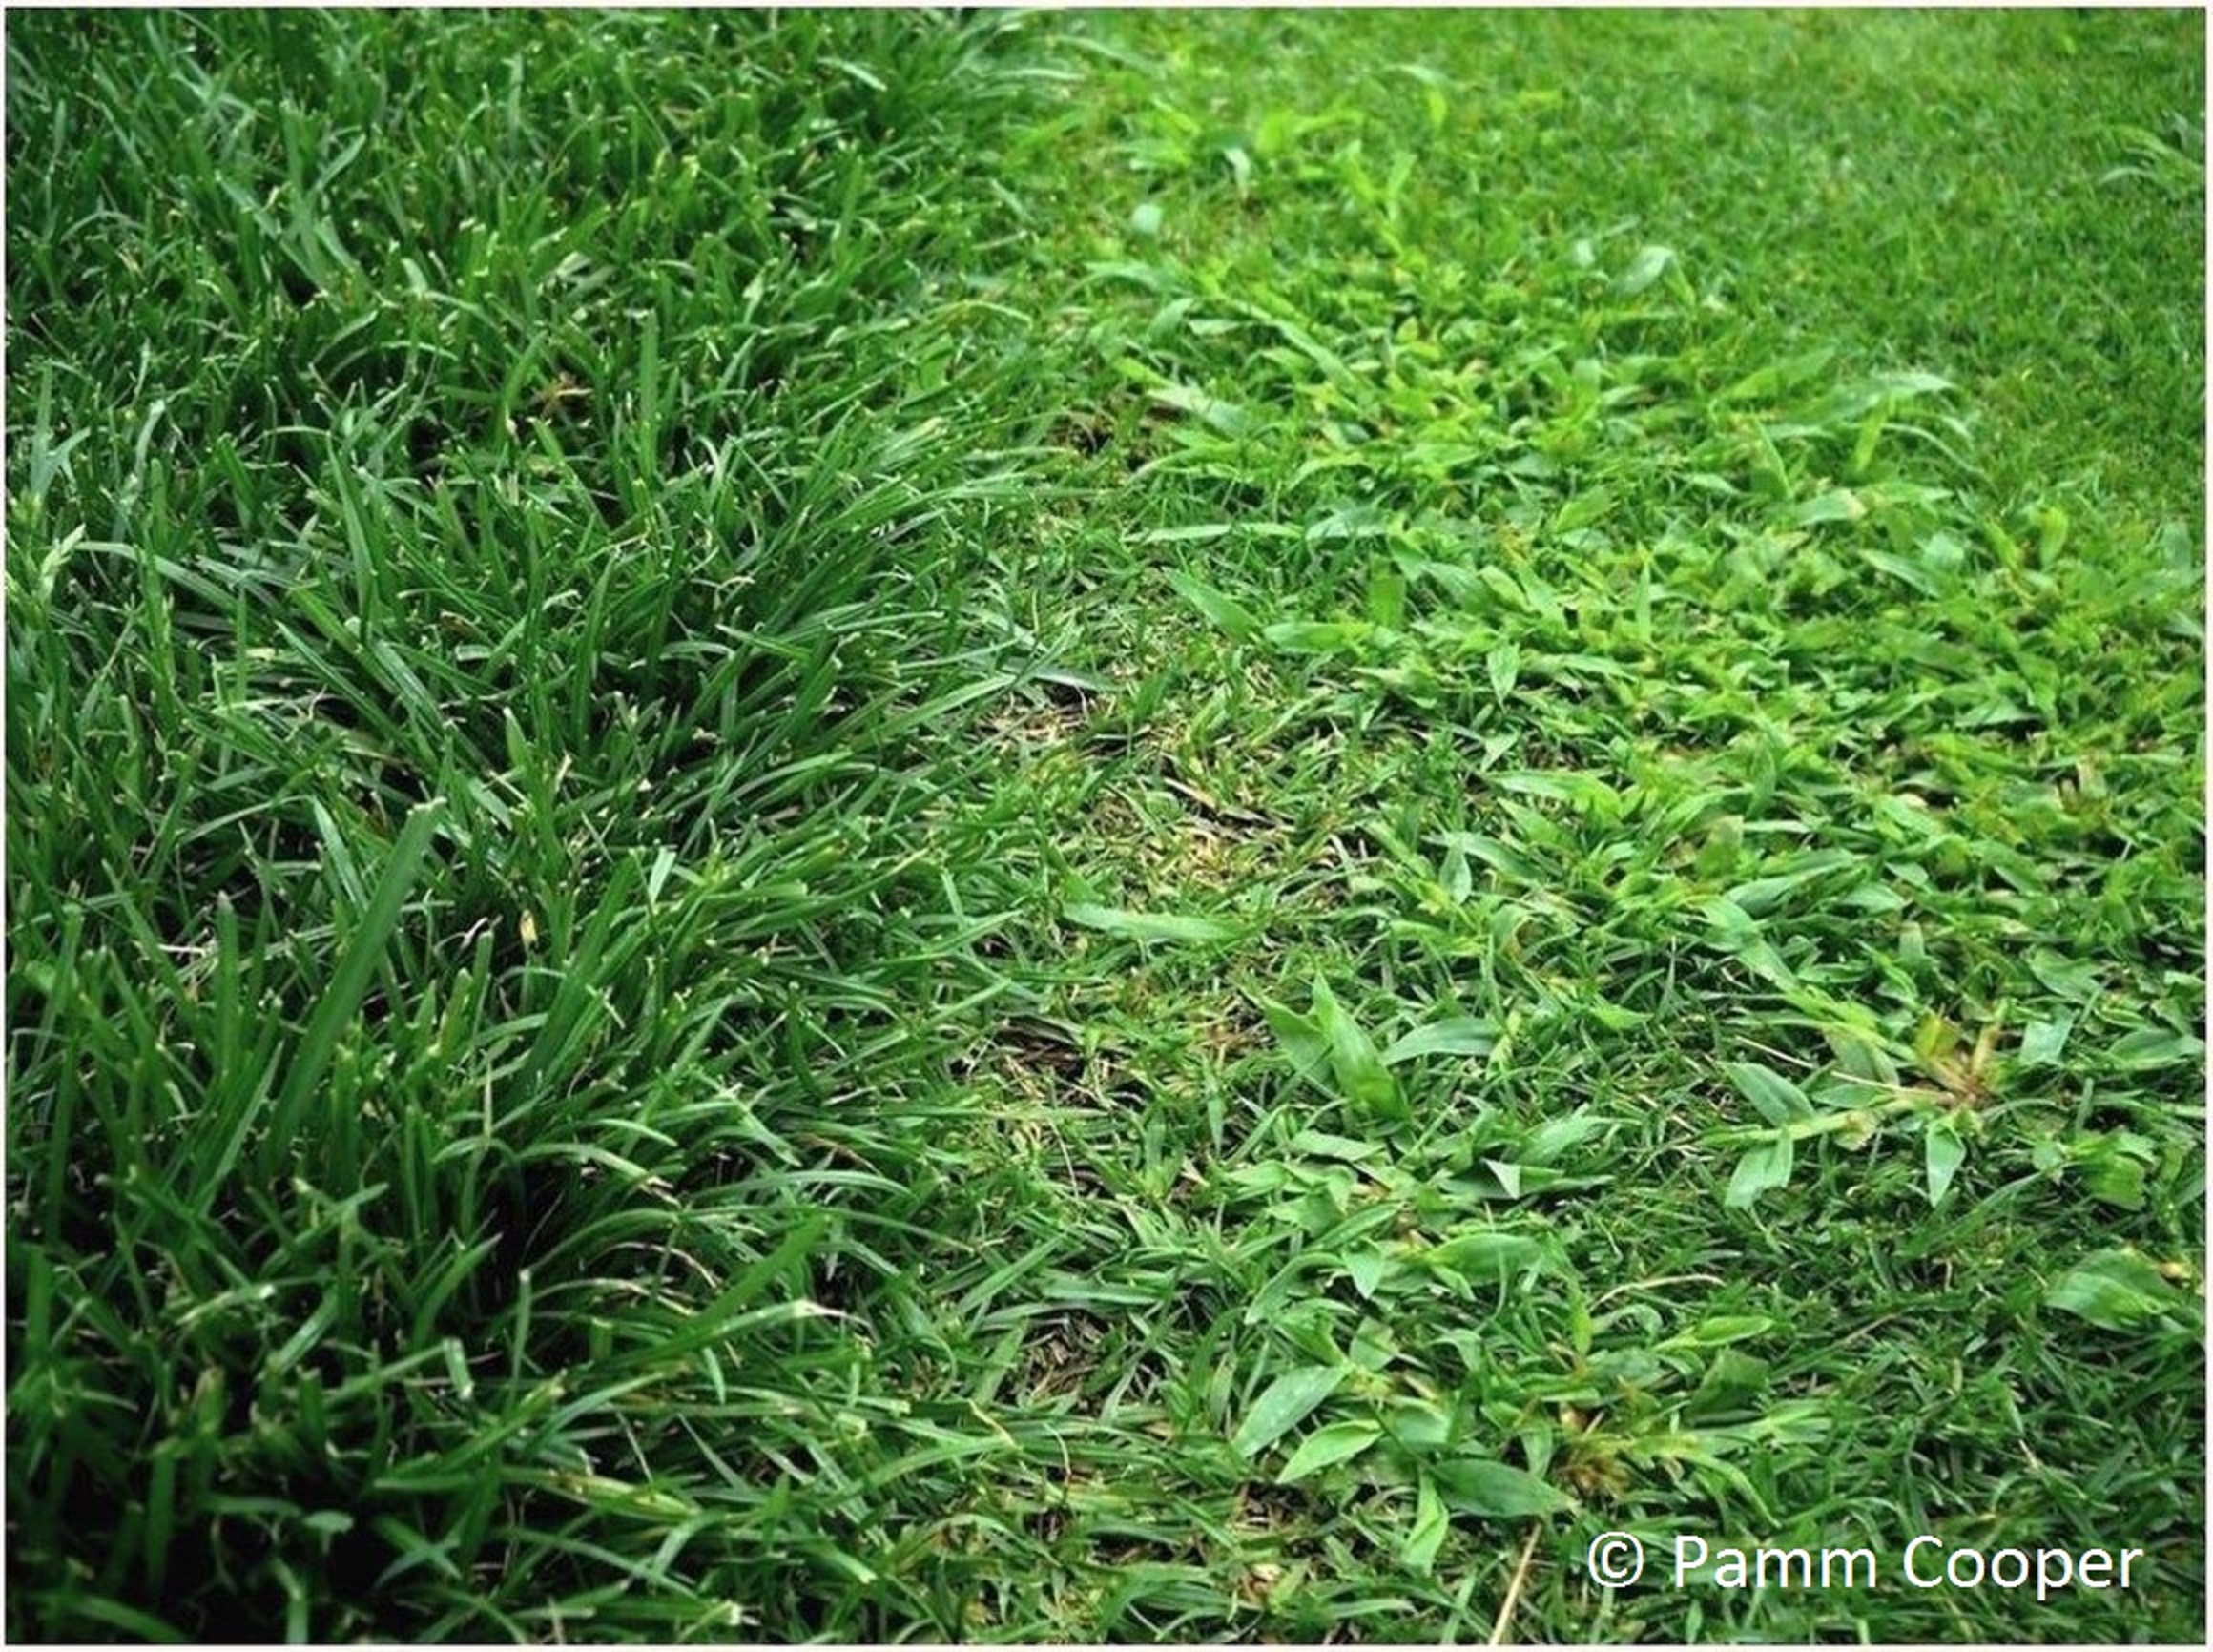crabgrass: (1257, 253, 2131, 1553)
